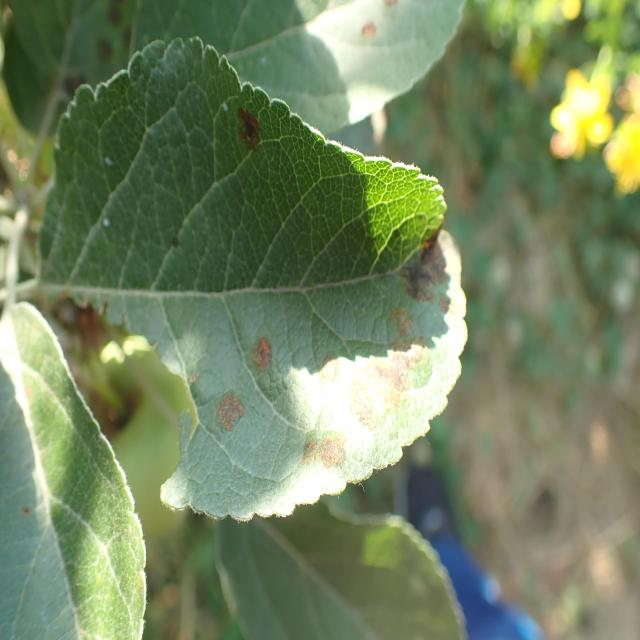Rust: (296, 422, 356, 484), (193, 380, 244, 452), (229, 90, 269, 166), (247, 330, 280, 382)
